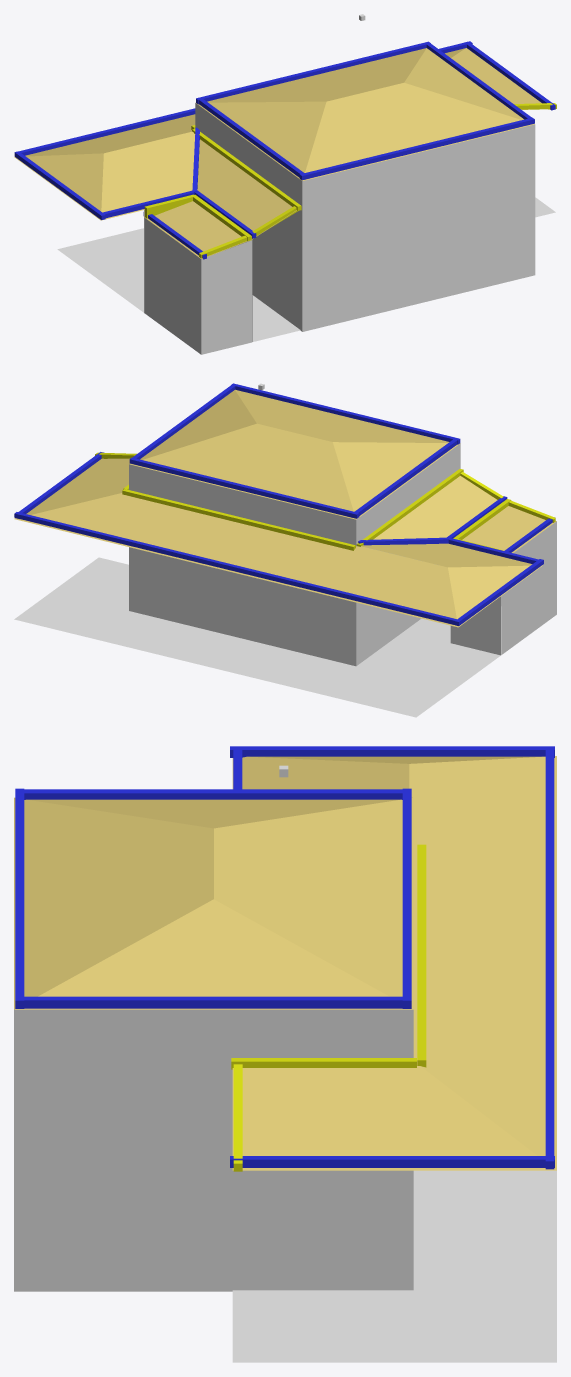
File: asset.glb
The picture shows the model from 3 angles, top to bottom: view 1: azimuth 30°, elevation 25°; view 2: azimuth 150°, elevation 25°; view 3: azimuth 270°, elevation 25°; orthographic projection. The views are drawn at different scales.
Parts seen in each view (by area): view 1: Cube.025, Cube, Cube.002, Cube.024, Cube.023, Cube.001, Cube.005, Cube.004, Cube.010, Cube.006, Cube.015, Cube.007 (+6 smaller); view 2: Cube.002, Cube.025, Cube.023, Cube, Cube.024, Cube.010, Cube.001, Cube.004, Cube.017, Cube.005, Cube.006, Cube.007 (+6 smaller); view 3: Cube.025, Cube, Cube.002, Cube.023, Cube.007, Cube.006, Cube.010, Cube.008, Cube.009, Cube.017, Cube.004, Cube.005 (+2 smaller).
Boxes of the visible parts, box(x1,y1,x2,y2) form: Cube.025: box(195, 103, 535, 331); Cube: box(195, 48, 534, 180); Cube.002: box(14, 48, 550, 239); Cube.024: box(144, 217, 252, 354); Cube.023: box(57, 197, 555, 341); Cube.001: box(144, 201, 252, 258); Cube.005: box(299, 117, 534, 180); Cube.004: box(196, 41, 430, 104); Cube.010: box(19, 41, 472, 155); Cube.006: box(199, 99, 304, 177); Cube.015: box(192, 129, 301, 210); Cube.007: box(426, 43, 531, 119); Cube.002: box(14, 458, 542, 627); Cube.025: box(129, 443, 460, 666); Cube.023: box(14, 557, 501, 717); Cube: box(129, 389, 460, 519); Cube.024: box(501, 521, 556, 655); Cube.010: box(14, 512, 456, 624); Cube.001: box(462, 506, 556, 552); Cube.004: box(129, 457, 359, 518); Cube.017: box(122, 489, 355, 550); Cube.005: box(231, 383, 460, 444); Cube.006: box(352, 438, 457, 515); Cube.007: box(130, 384, 235, 459); Cube.025: box(14, 1009, 413, 1291); Cube: box(14, 797, 413, 1009); Cube.002: box(232, 756, 556, 1170); Cube.023: box(232, 1170, 556, 1362); Cube.007: box(18, 996, 409, 1008); Cube.006: box(17, 789, 411, 799); Cube.010: box(545, 750, 554, 1169); Cube.008: box(230, 1156, 554, 1167); Cube.009: box(230, 746, 554, 757); Cube.017: box(417, 844, 426, 1067); Cube.004: box(402, 788, 411, 1008); Cube.005: box(15, 788, 24, 1008).
Bounding box in the file's own units: 22.15 × 10.74 × 12.23.
